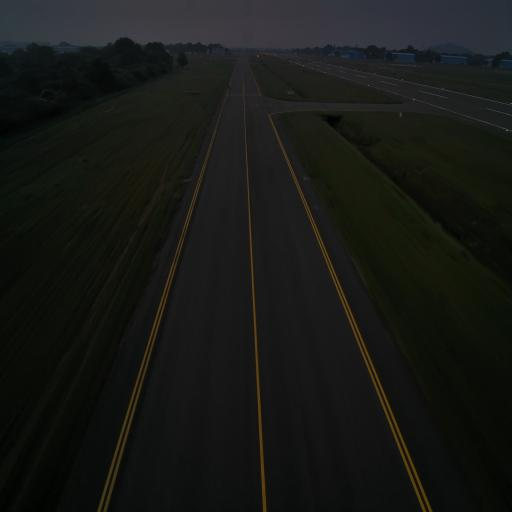on: (189, 176, 192, 181), (304, 174, 306, 180)
